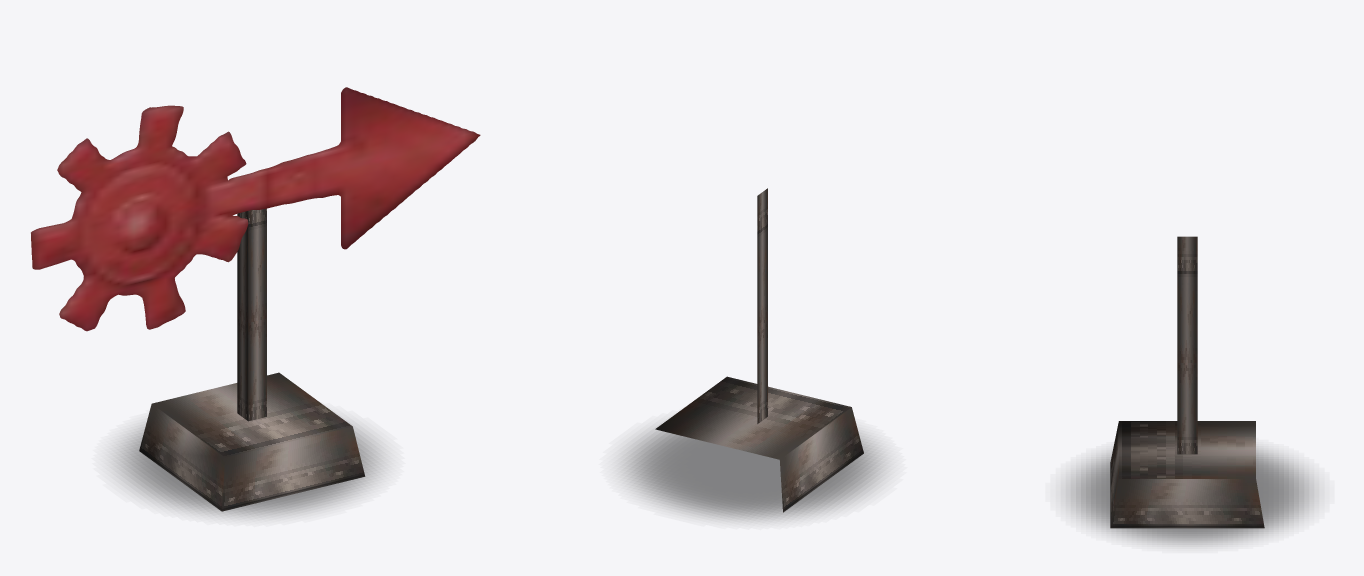
The model's file is toonblitz_arrow.glb.
The picture shows the model from 3 angles, left to right: view 1: azimuth 30°, elevation 25°; view 2: azimuth 150°, elevation 25°; view 3: azimuth 270°, elevation 25°; orthographic projection. The views are drawn at different scales.
Visible parts, largest first — view 1: arrowmesh, dropshadow; view 2: arrowmesh, dropshadow; view 3: arrowmesh, dropshadow.
Part boxes in pixels (x1,y1,x2,y2): arrowmesh: (31, 87, 480, 511); dropshadow: (113, 420, 383, 517); arrowmesh: (655, 188, 863, 512); dropshadow: (621, 427, 885, 521); arrowmesh: (1110, 236, 1264, 528); dropshadow: (1066, 448, 1314, 544).
Size of the model in its own units: 5 by 4.05 by 3.2.
3 materials, 3 textured.
